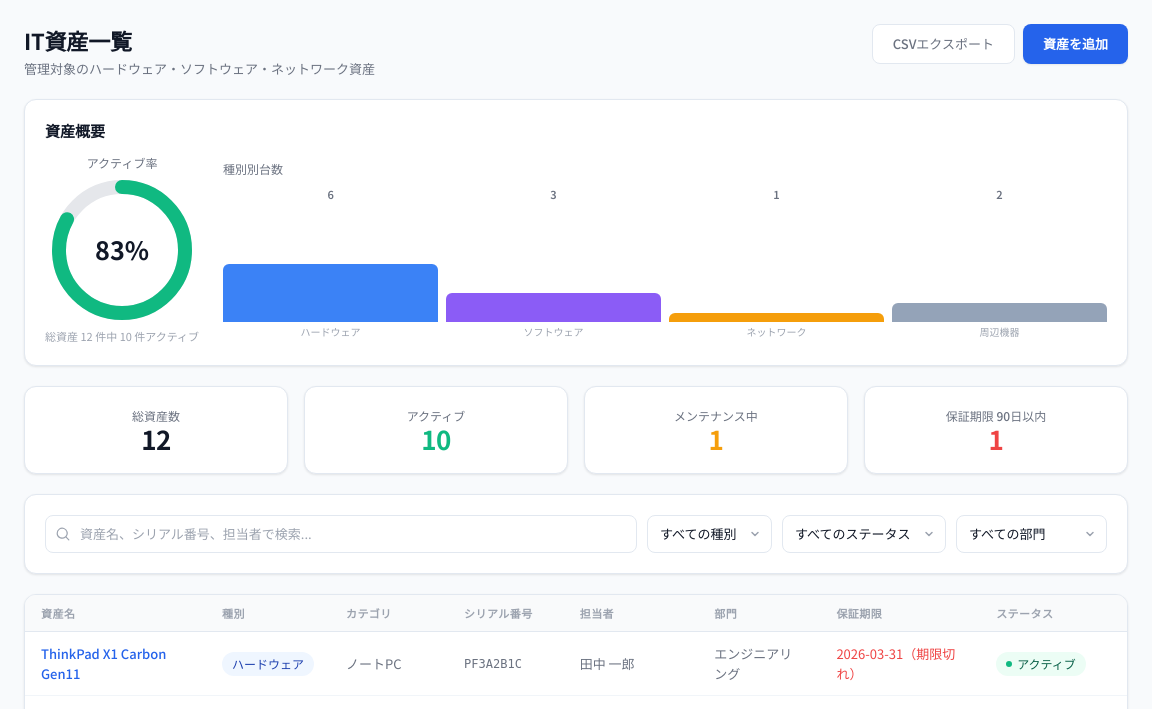
Test: Assets page - search filter branch › search with no match shows 条件に一致する資産が見つかりません
Type "ZZZNOMATCHZZZ" into the field with placeholder "資産名、シリアル番号、担当者で検索..." at point(341, 534), box [45,515,637,553]
(page scrolled)
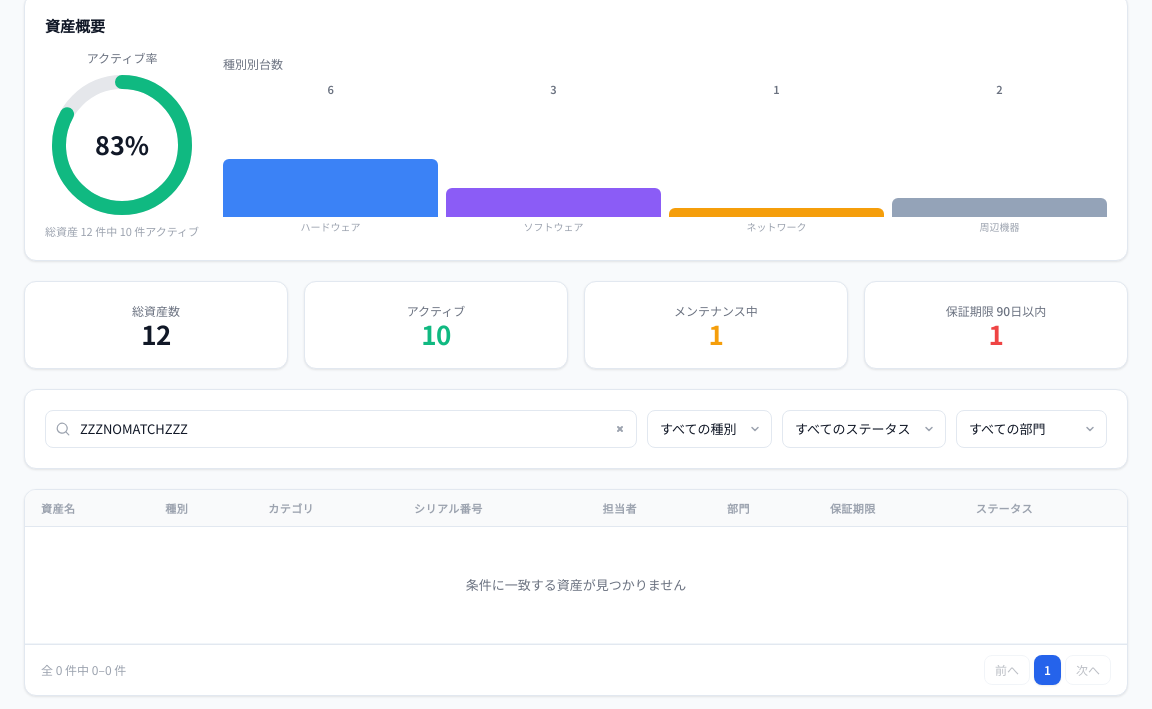
Check: the text "条件に一致する資産が見つかりません" is shown, box [25,527,1127,643]
